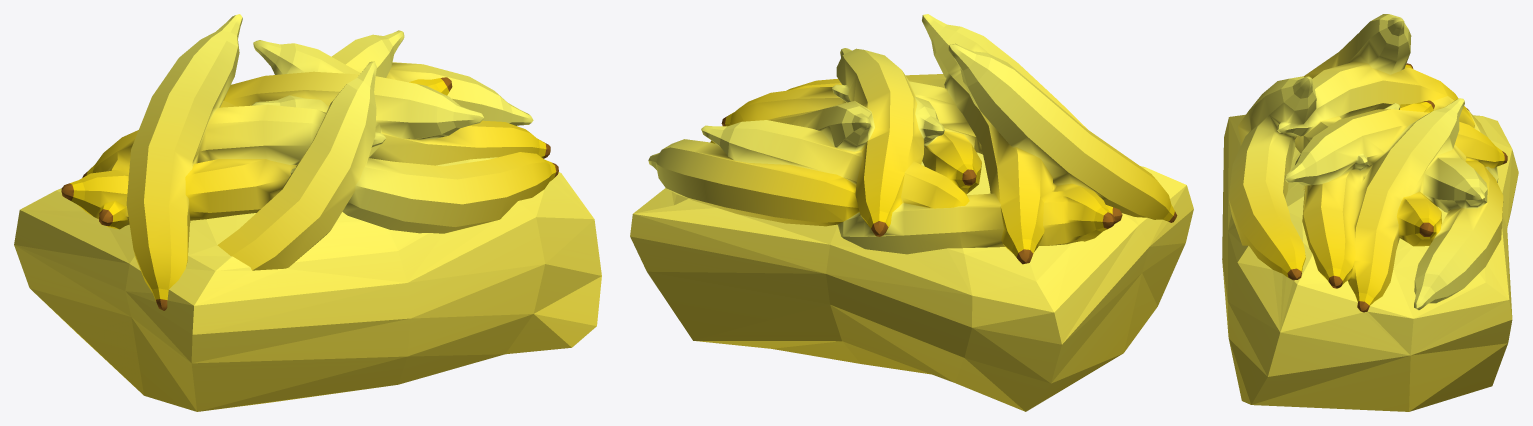
The model's file is banana_pile.fbx.
3 renders of one model, left to right at view 1: azimuth 30°, elevation 25°; view 2: azimuth 150°, elevation 25°; view 3: azimuth 270°, elevation 25°, orthographic. The views are drawn at different scales.
Visible parts, largest first — view 1: banana_pile; view 2: banana_pile; view 3: banana_pile.
Part boxes in pixels (bbox=[...]): banana_pile: bbox=[14, 14, 601, 411]; banana_pile: bbox=[630, 14, 1193, 411]; banana_pile: bbox=[1222, 14, 1518, 411].
Size of the model in its own units: 423 by 279 by 264.
